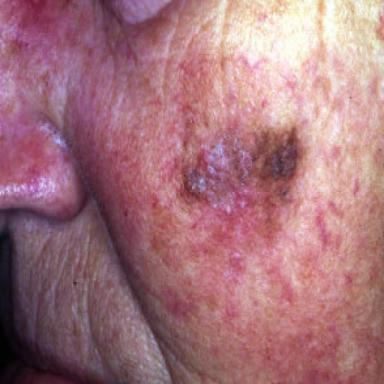Melanoma: (180, 124, 306, 245)
